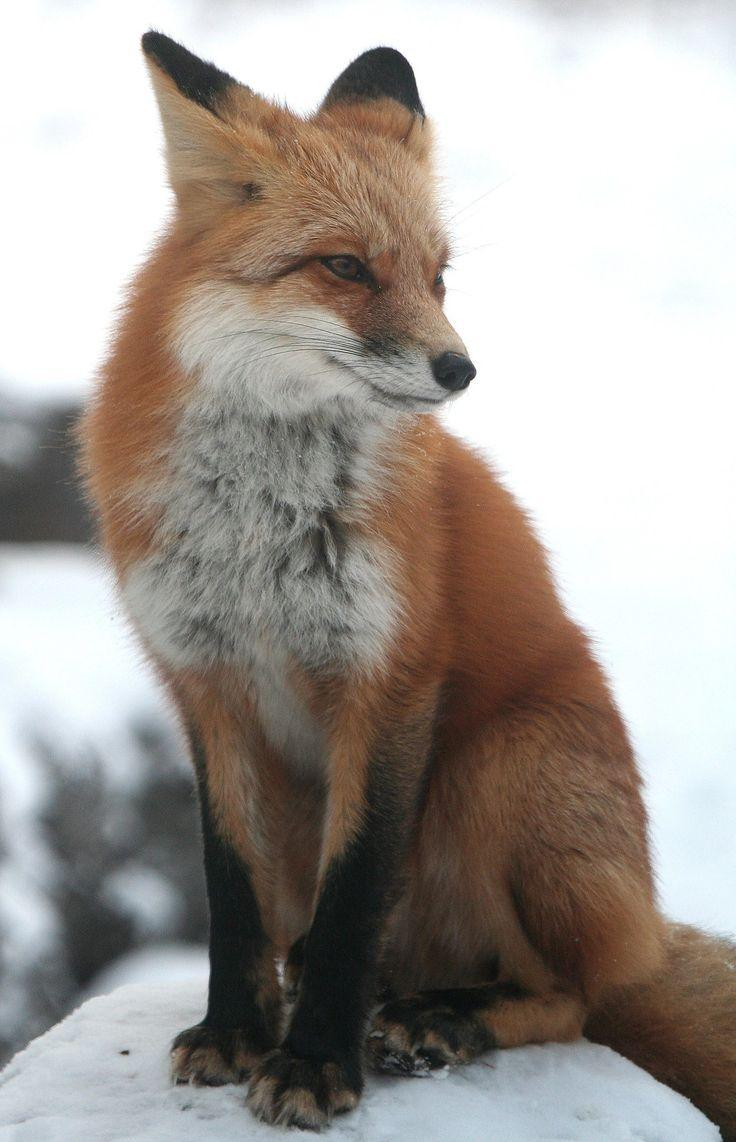fox: (85, 17, 736, 1122)
